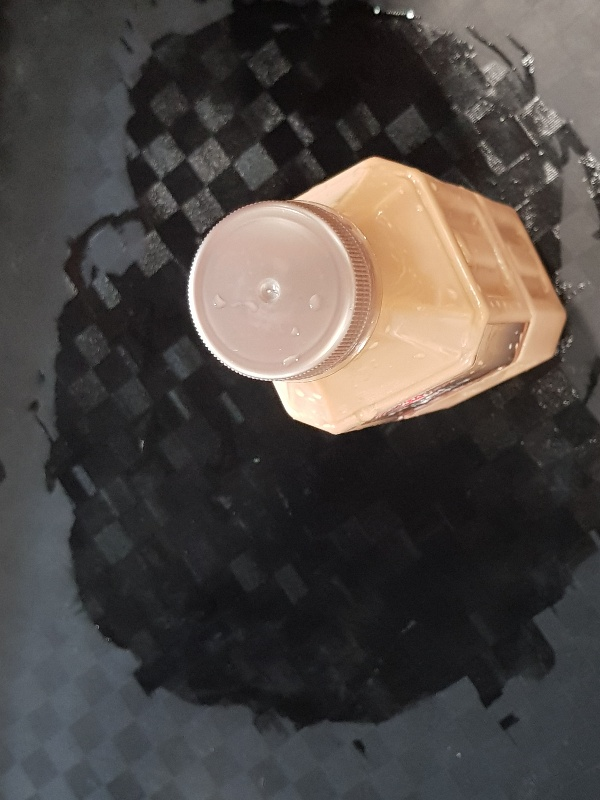Mocha: (184, 153, 566, 436)
